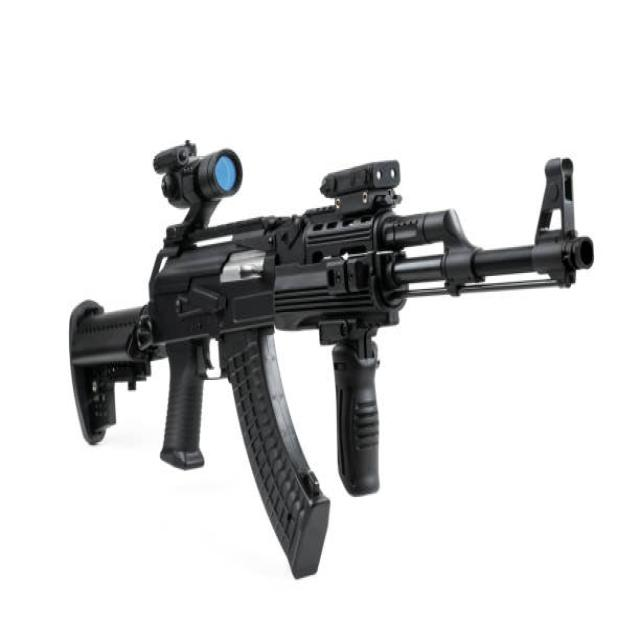rifle: (60, 112, 600, 605)
